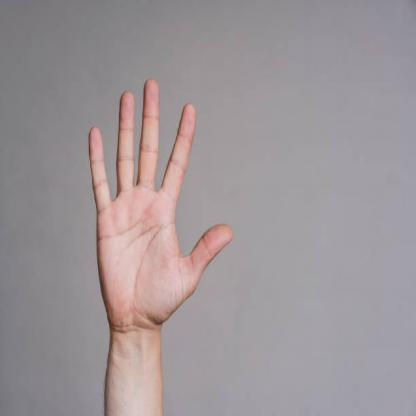stop: (87, 72, 234, 332)
